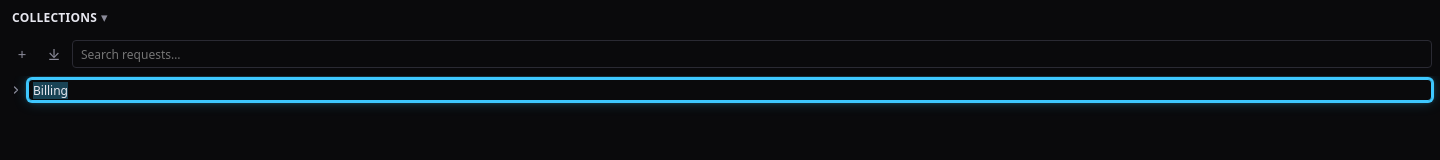
it: SidebarPanel › cancels an inline rename with Escape
Step 1. Type "x" into the field named "Name" → [730, 90], box [28,79,1432,101]
Then press Escape
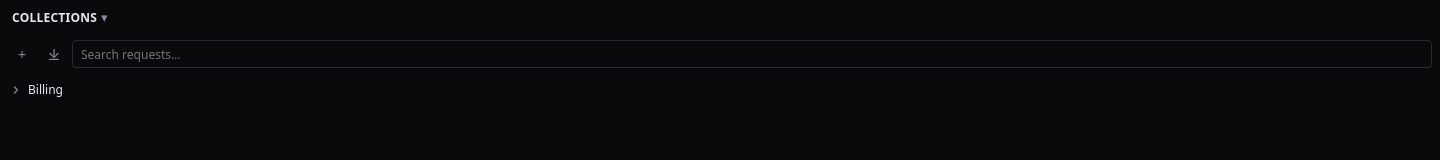
Check: the field labelled "Name" is gone
